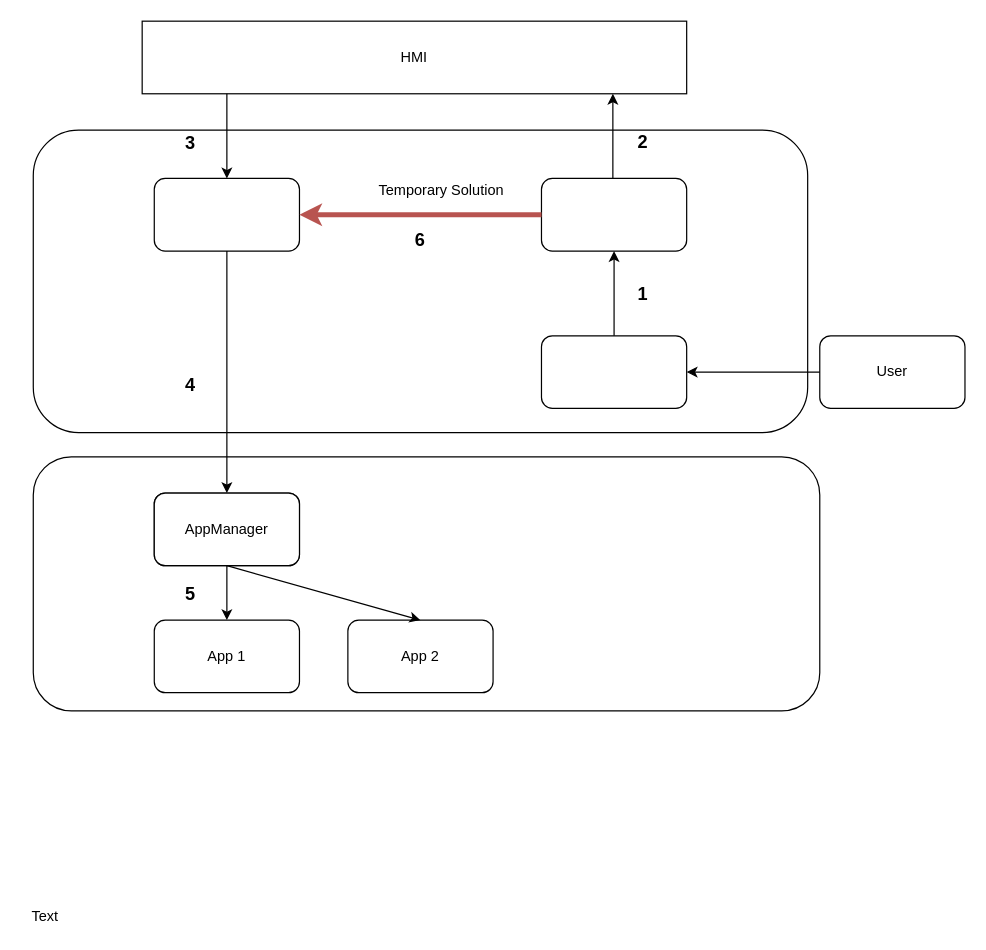
Image size: 986x950. Some labels were removed from this diagram. The shapes that lost their labels are listed below. From the top down, each one's centre as x and y in pixels, then its label:
At point (226, 214): "AndroidControl".
At point (613, 214): "DisplayIntentCenter".
At point (613, 371): "SDS".
